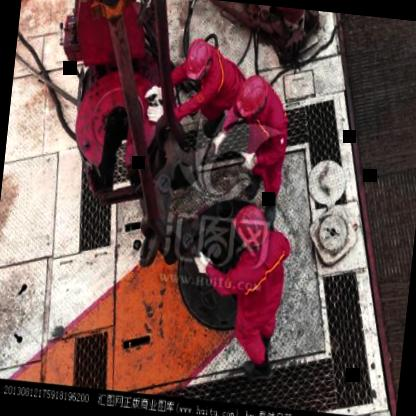helmet: (226, 68, 276, 132), (228, 202, 272, 255), (180, 35, 217, 84)
